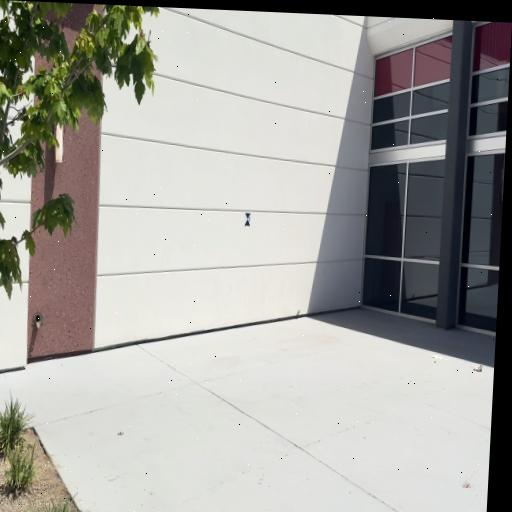target7: (245, 212, 252, 227)
